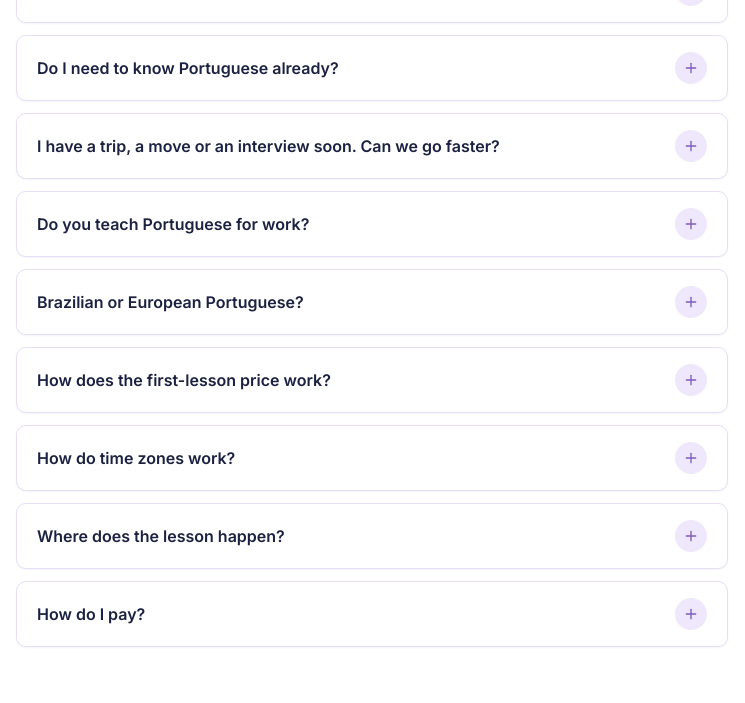
it: FAQSection › has a single duration answer of 50 minutes and Zoom
(page scrolled)
Click the heading with test id "landing-faq-item-platform-trigger" at {"x": 161, "y": 536}, box [37,520,707,552]
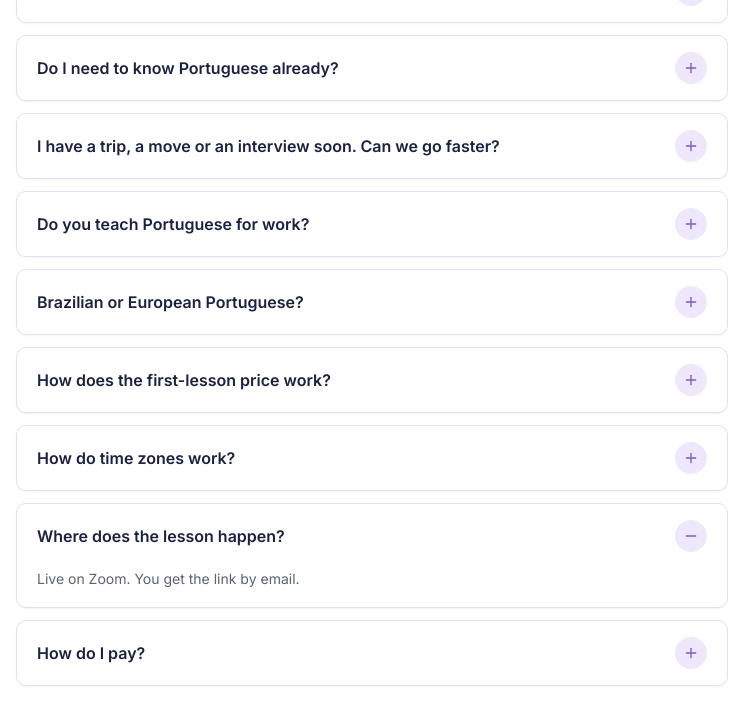
Expected: the text "Live on Zoom. You get the link by email." is shown, [37,570,300,587]
